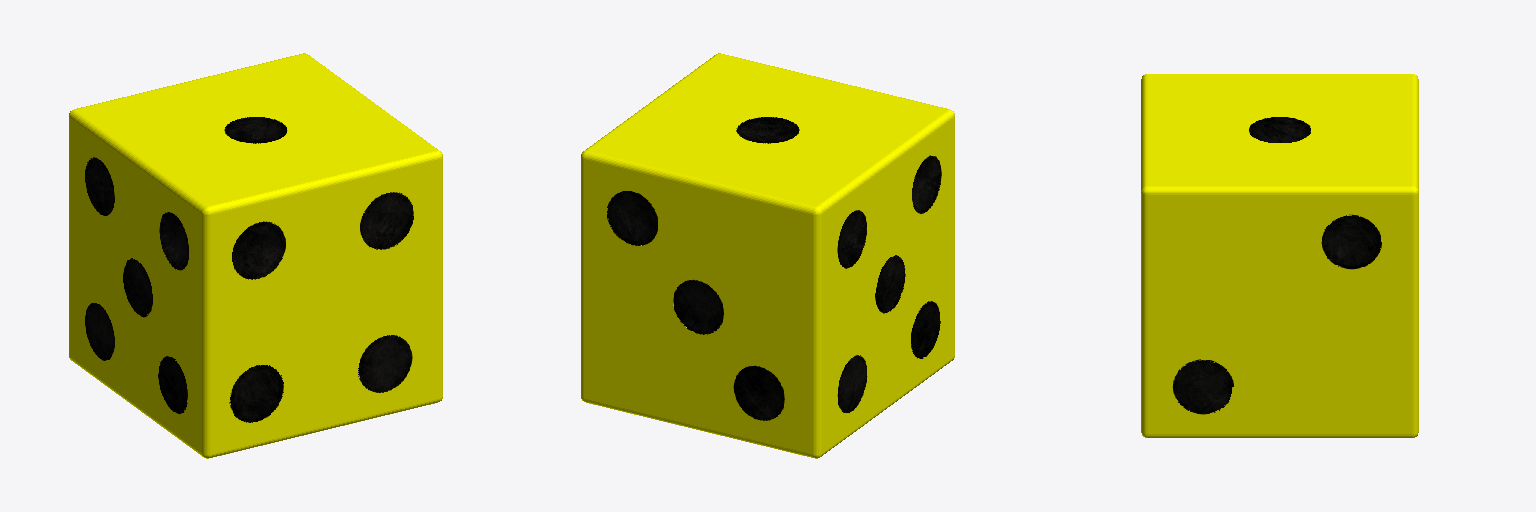
3 renders of one model, left to right at view 1: azimuth 30°, elevation 25°; view 2: azimuth 150°, elevation 25°; view 3: azimuth 270°, elevation 25°, orthographic.
Visible parts, largest first — view 1: Cube.001_Cube.002; view 2: Cube.001_Cube.002; view 3: Cube.001_Cube.002.
Boxes of the visible parts, <box> form: Cube.001_Cube.002: <box>69,53,442,458</box>; Cube.001_Cube.002: <box>581,53,954,458</box>; Cube.001_Cube.002: <box>1141,74,1418,437</box>.
Bounding box in the file's own units: 1.13 × 1.13 × 1.13.
1 materials, 1 textured.